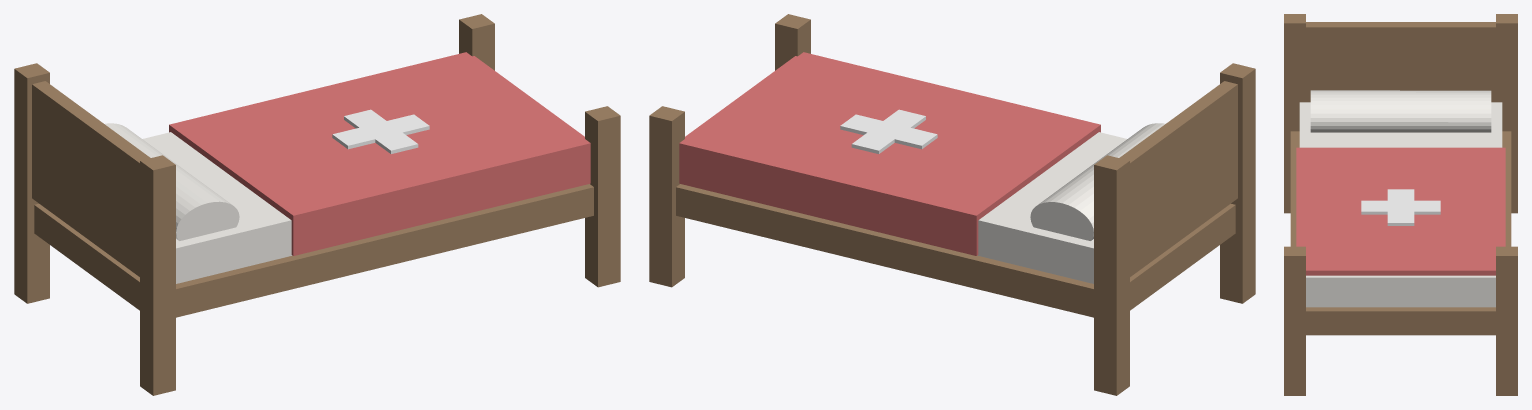
File: infirmary_bed.glb
3 views of the same model, side by side, from view 1: azimuth 30°, elevation 25°; view 2: azimuth 150°, elevation 25°; view 3: azimuth 270°, elevation 25° (orthographic). The views are drawn at different scales.
Parts seen in each view (by area): view 1: Cube.007, Cube.004, Cube.005, Cube, Cube.006, Cube.002, Cube.001, Cylinder, Cube.003, Cube.008, Cube.009; view 2: Cube.007, Cube.004, Cube.005, Cube.001, Cube.006, Cube.003, Cube, Cylinder, Cube.002, Cube.009, Cube.008; view 3: Cube.007, Cube.005, Cube.006, Cylinder, Cube.004, Cube.002, Cube.003, Cube, Cube.001, Cube.008, Cube.009.
Boxes of the visible parts, box(x1,y1,x2,y2) form: Cube.007: box(169, 52, 590, 255); Cube.004: box(34, 184, 593, 317); Cube.005: box(32, 81, 150, 276); Cube: box(140, 155, 175, 395); Cube.006: box(142, 132, 292, 283); Cube.002: box(585, 106, 620, 287); Cube.001: box(14, 63, 49, 303); Cylinder: box(105, 123, 239, 240); Cube.003: box(459, 14, 494, 70); Cube.008: box(332, 114, 429, 149); Cube.009: box(344, 109, 418, 153); Cube.007: box(679, 52, 1100, 255); Cube.004: box(676, 184, 1235, 317); Cube.005: box(1119, 81, 1237, 276); Cube.001: box(1094, 155, 1129, 395); Cube.006: box(977, 132, 1126, 283); Cube.003: box(649, 106, 684, 287); Cube: box(1220, 63, 1255, 303); Cylinder: box(1030, 123, 1165, 240); Cube.002: box(775, 14, 810, 70); Cube.009: box(851, 109, 925, 153); Cube.008: box(840, 114, 937, 149); Cube.007: box(1296, 147, 1505, 275); Cube.005: box(1306, 22, 1495, 102); Cube.006: box(1299, 102, 1502, 307); Cylinder: box(1310, 90, 1491, 132); Cube.004: box(1290, 131, 1511, 335); Cube.002: box(1284, 246, 1305, 395); Cube.003: box(1496, 246, 1517, 395); Cube: box(1284, 14, 1305, 213); Cube.001: box(1496, 14, 1517, 213); Cube.008: box(1387, 189, 1414, 225); Cube.009: box(1361, 200, 1440, 214).
Size of the model in its own units: 2.06 by 0.95 by 1.06.
